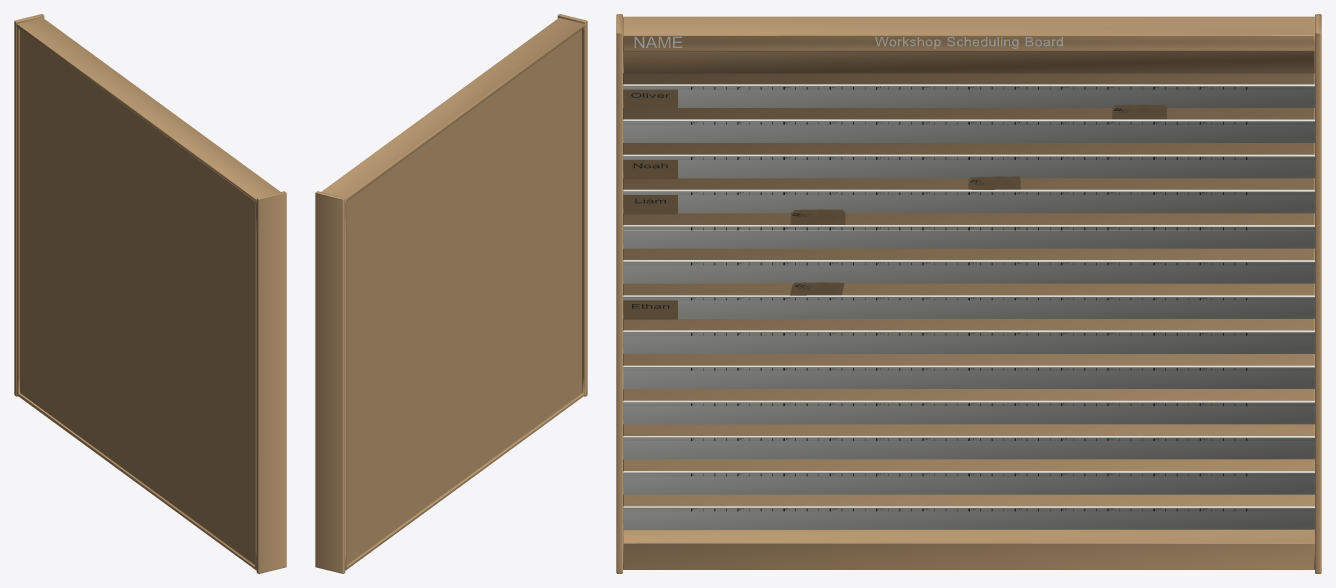
The model's file is workshopSystem_scheduleBoard_service_a01.glb.
3 renders of one model, left to right at view 1: azimuth 30°, elevation 25°; view 2: azimuth 150°, elevation 25°; view 3: azimuth 270°, elevation 25°, orthographic. The views are drawn at different scales.
Size of the model in its own units: 0.1273 by 1.26 by 1.49.
